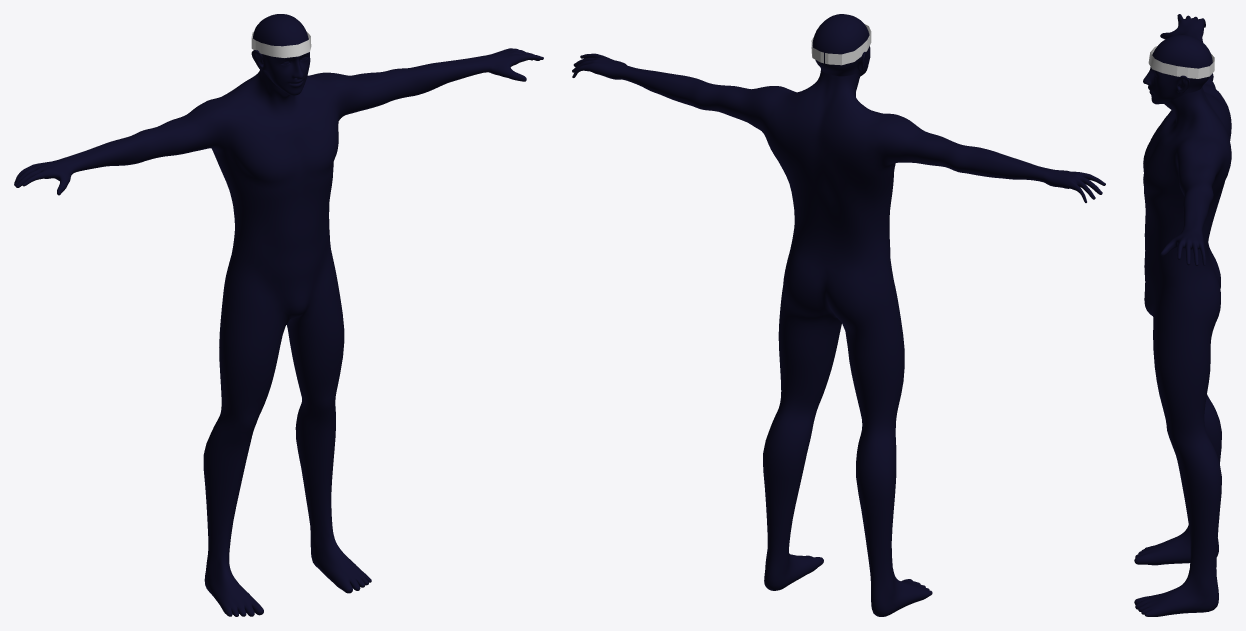
The picture shows the model from 3 angles, left to right: view 1: azimuth 30°, elevation 25°; view 2: azimuth 150°, elevation 25°; view 3: azimuth 270°, elevation 25°; orthographic projection. The views are drawn at different scales.
Parts seen in each view (by area): view 1: Body_low, Plane001; view 2: Body_low, Plane001; view 3: Body_low, Plane001.
Boxes of the visible parts, box(x1,y1,x2,y2) form: Body_low: box(14, 14, 543, 616); Plane001: box(251, 31, 311, 57); Body_low: box(572, 14, 1105, 616); Plane001: box(811, 24, 871, 65); Body_low: box(1134, 14, 1231, 616); Plane001: box(1148, 46, 1214, 78).
Bounding box in the file's own units: 67.82 × 70.66 × 11.36.
